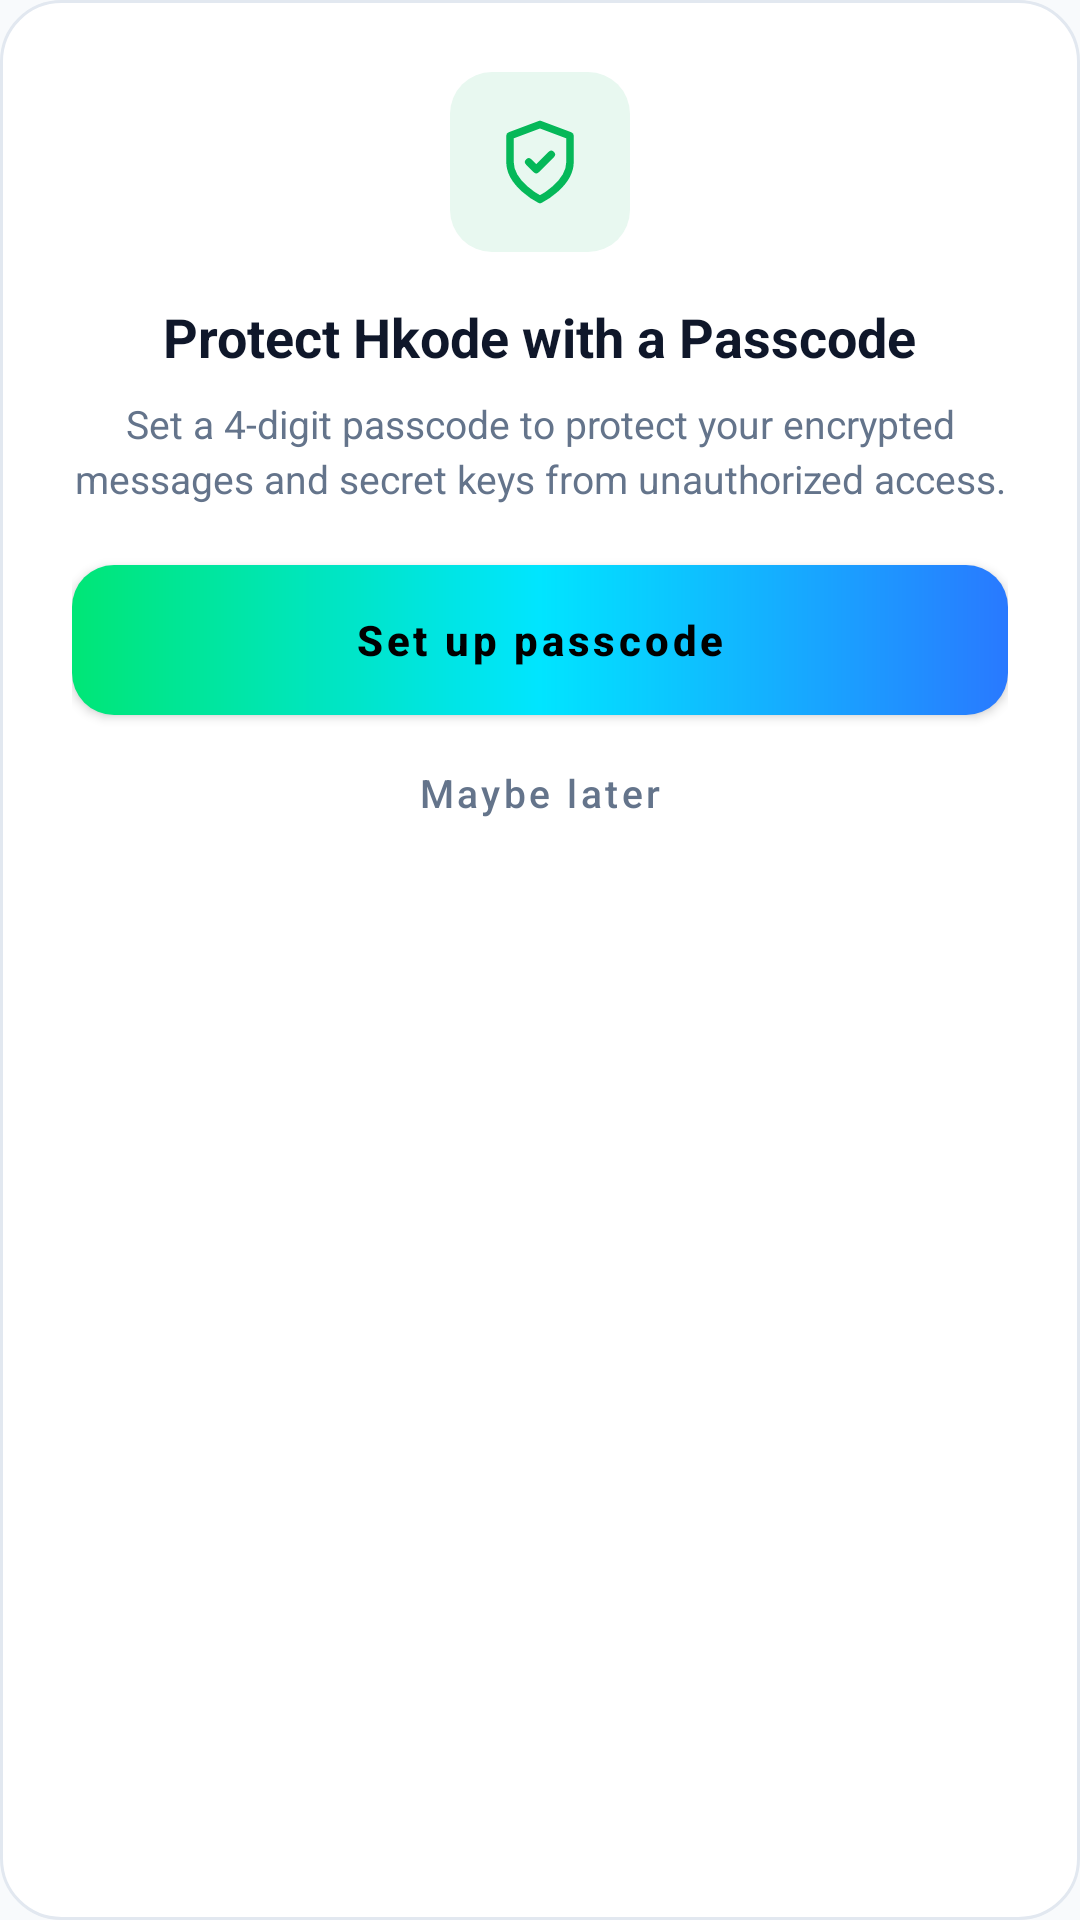

Icons on this 1080 x 1920 Android screen, each with its box as [x1=x1, y1=y1, x2=x2, y2=y2]:
Shield: [x1=506, y1=120, x2=574, y2=204]
